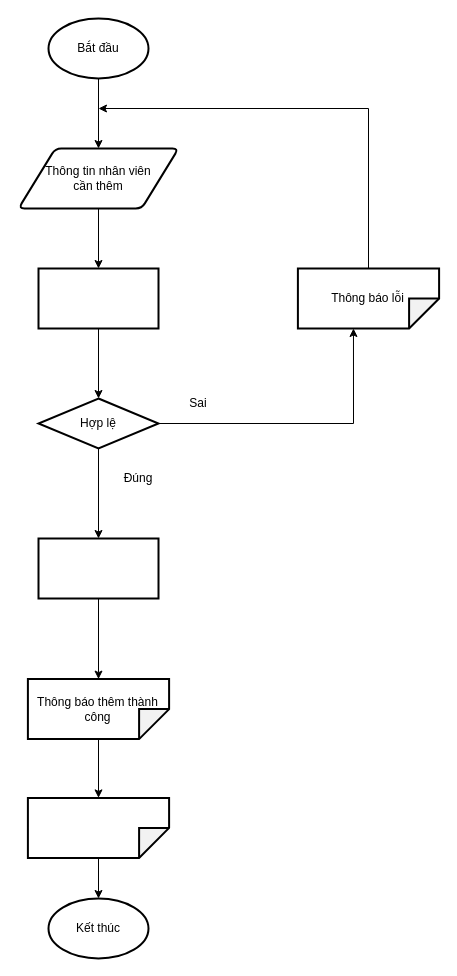
This 457x976 diagram has some shape labels left out. The shapes that lost their labels are listed below. From the top down, each one's centre as x and y in pixels, then its label:
point (98, 298): Kiểm tra tính hợp lệ của thông tin
point (98, 568): Cập nhật dữ liệu vào database
point (98, 827): Hiển thị danh sách nhân viên
